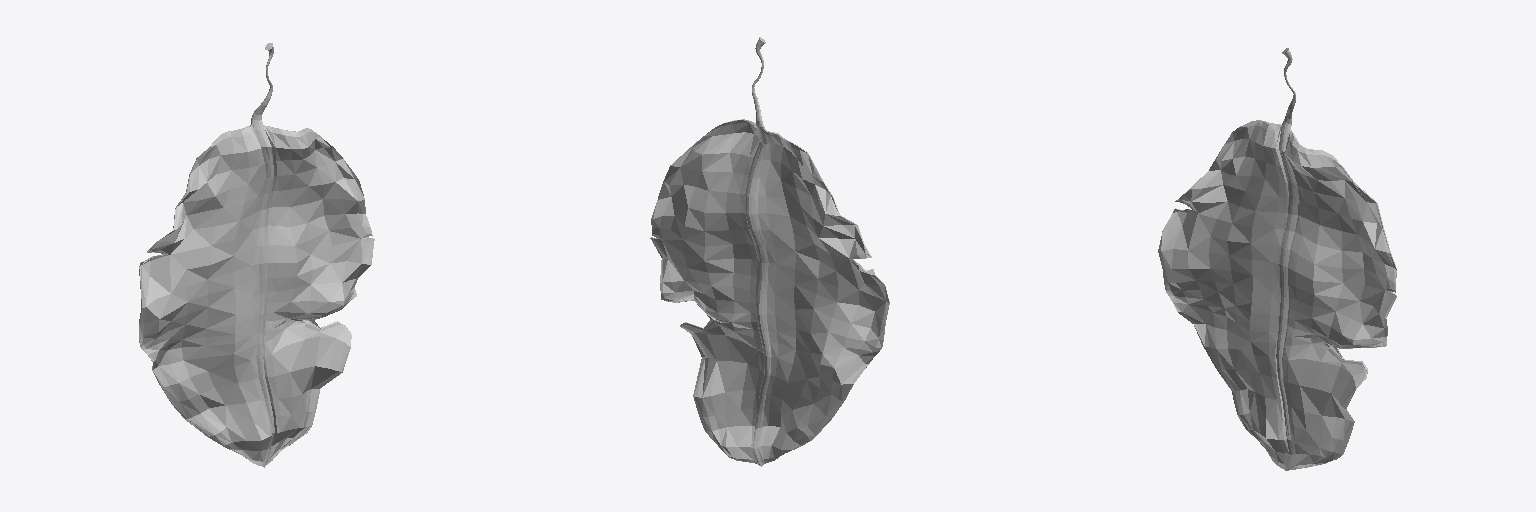
Rendered from Leaf.obj.
3 views of the same model, side by side, from view 1: azimuth 30°, elevation 25°; view 2: azimuth 150°, elevation 25°; view 3: azimuth 330°, elevation 25° (orthographic).
Visible parts, largest first — view 1: Box01; view 2: Box01; view 3: Box01.
Part boxes in pixels (left/top/right/bottom): Box01: left=139, top=43, right=374, bottom=467; Box01: left=650, top=37, right=889, bottom=466; Box01: left=1158, top=48, right=1396, bottom=470.
Bounding box in the file's own units: 151 × 260 × 28.01.